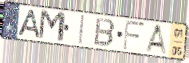A: (143, 23, 170, 57), (16, 9, 42, 40)
B: (93, 17, 117, 49)
F: (121, 19, 146, 53)
I: (77, 14, 86, 46)
M: (37, 8, 68, 45)
